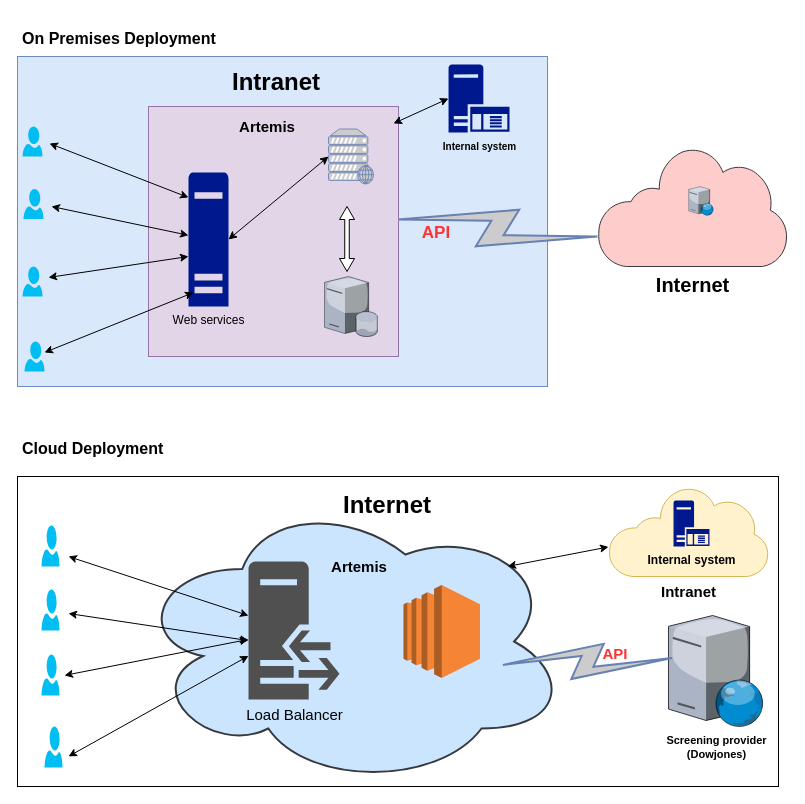
Image size: 805x804. Some labels were removed from this diagram. The box of each missing label's shape, as (x1, y1, x2, y2) in pixels:
Application: (327, 128, 374, 184)
Database: (324, 276, 377, 336)
EC2 Instance (Application & DB): (402, 584, 480, 678)
Screening Provider(Dowjones): (688, 186, 714, 216)
